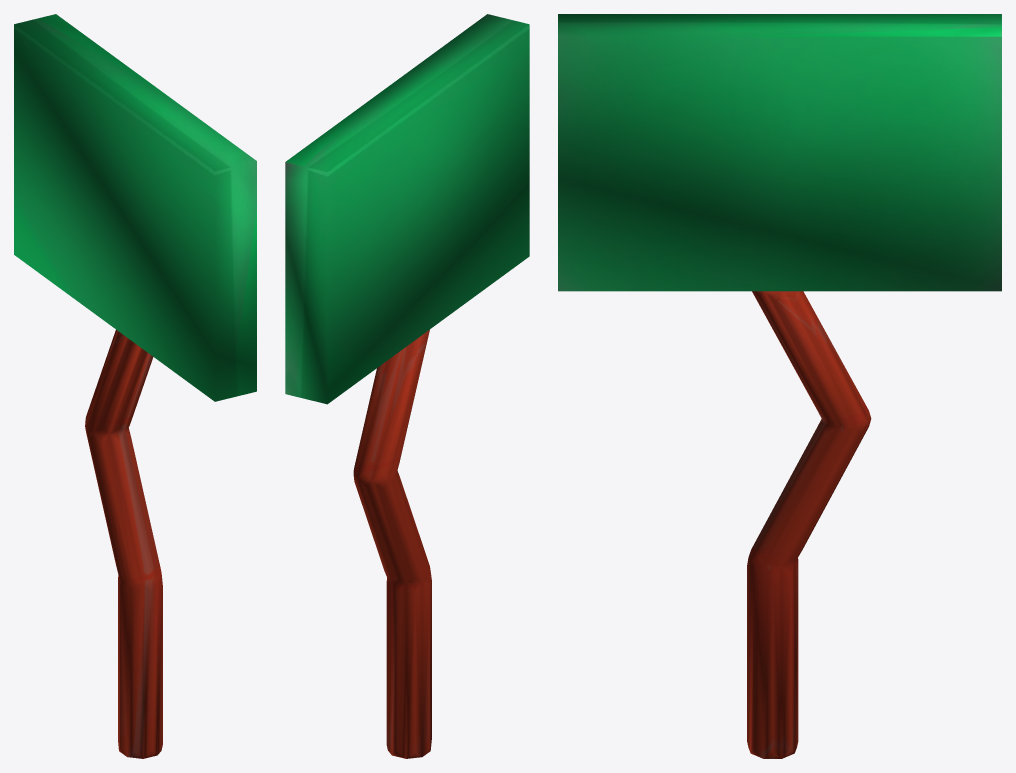
Rendered from painel2-planeta3.obj.
3 renders of one model, left to right at view 1: azimuth 30°, elevation 25°; view 2: azimuth 150°, elevation 25°; view 3: azimuth 270°, elevation 25°, orthographic. The views are drawn at different scales.
Parts seen in each view (by area): view 1: Plane_Plane.001, Cylinder_Cylinder.001; view 2: Plane_Plane.001, Cylinder_Cylinder.001; view 3: Plane_Plane.001, Cylinder_Cylinder.001.
Boxes of the visible parts, <box> form: Plane_Plane.001: <box>14,14,256,401</box>; Cylinder_Cylinder.001: <box>85,329,162,758</box>; Plane_Plane.001: <box>285,14,529,404</box>; Cylinder_Cylinder.001: <box>353,329,431,758</box>; Plane_Plane.001: <box>558,14,1001,291</box>; Cylinder_Cylinder.001: <box>747,291,871,758</box>.
Size of the model in its own units: 0.2118 by 3.1 by 1.72.
Materials: 2 (2 with a texture image).
